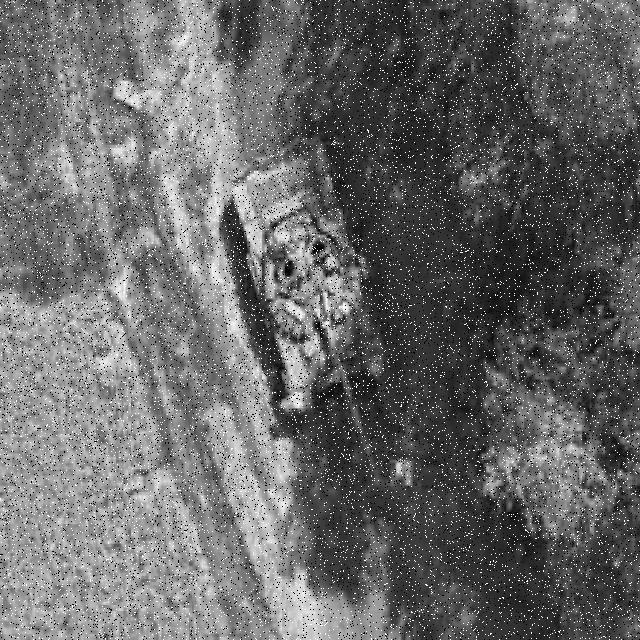MIL_MBT: (226, 123, 394, 494)
